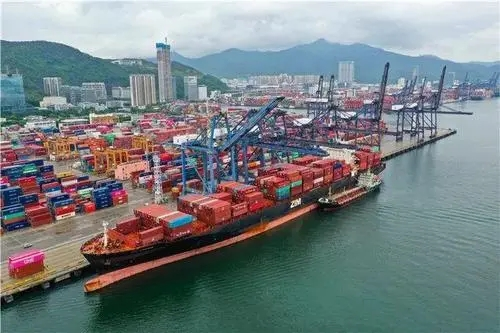Cargoship: (79, 128, 383, 278), (313, 169, 384, 218)
